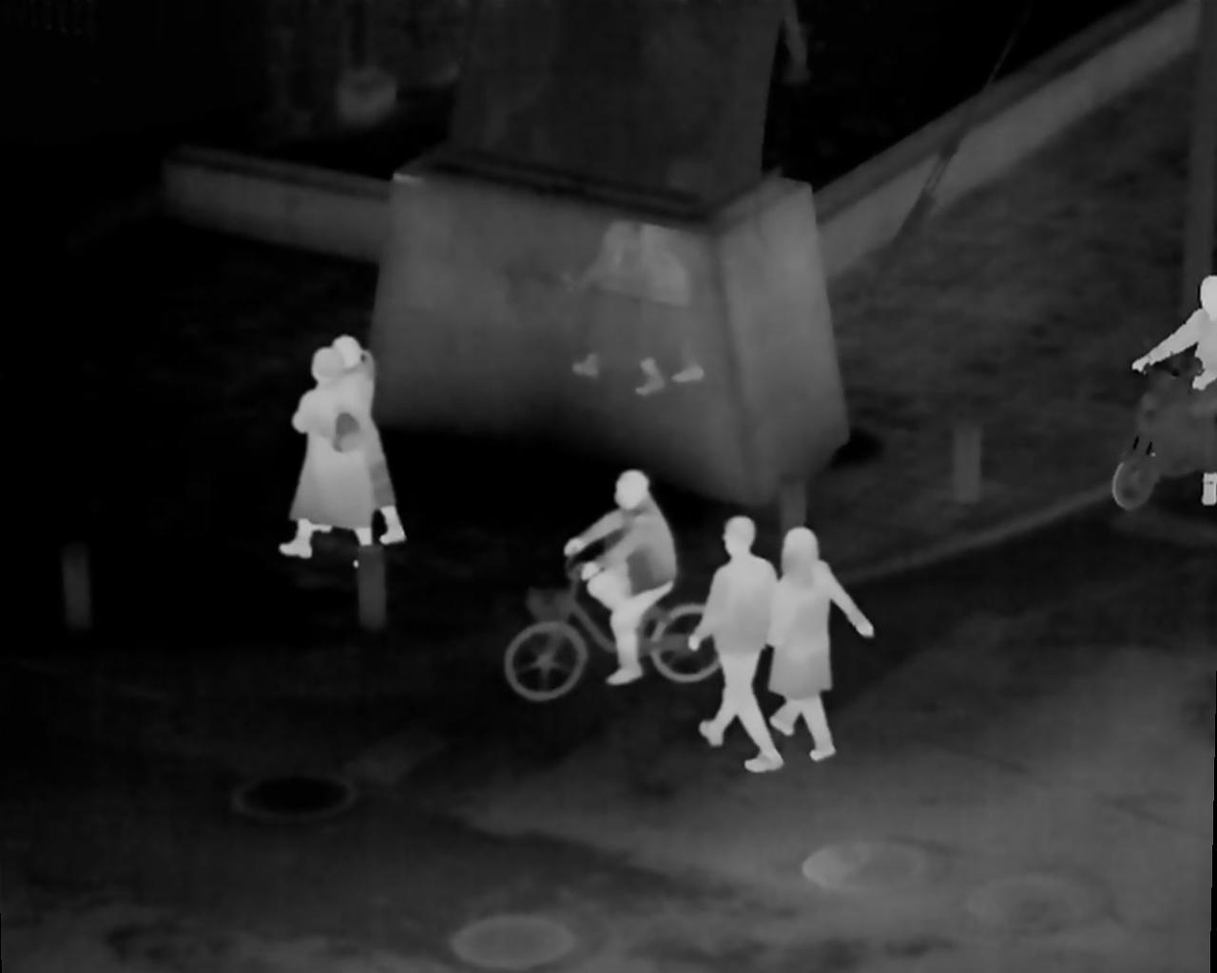person: (560, 475, 683, 676), (698, 516, 779, 778), (774, 517, 860, 758), (332, 338, 413, 543), (287, 353, 364, 547), (1157, 276, 1217, 476)
